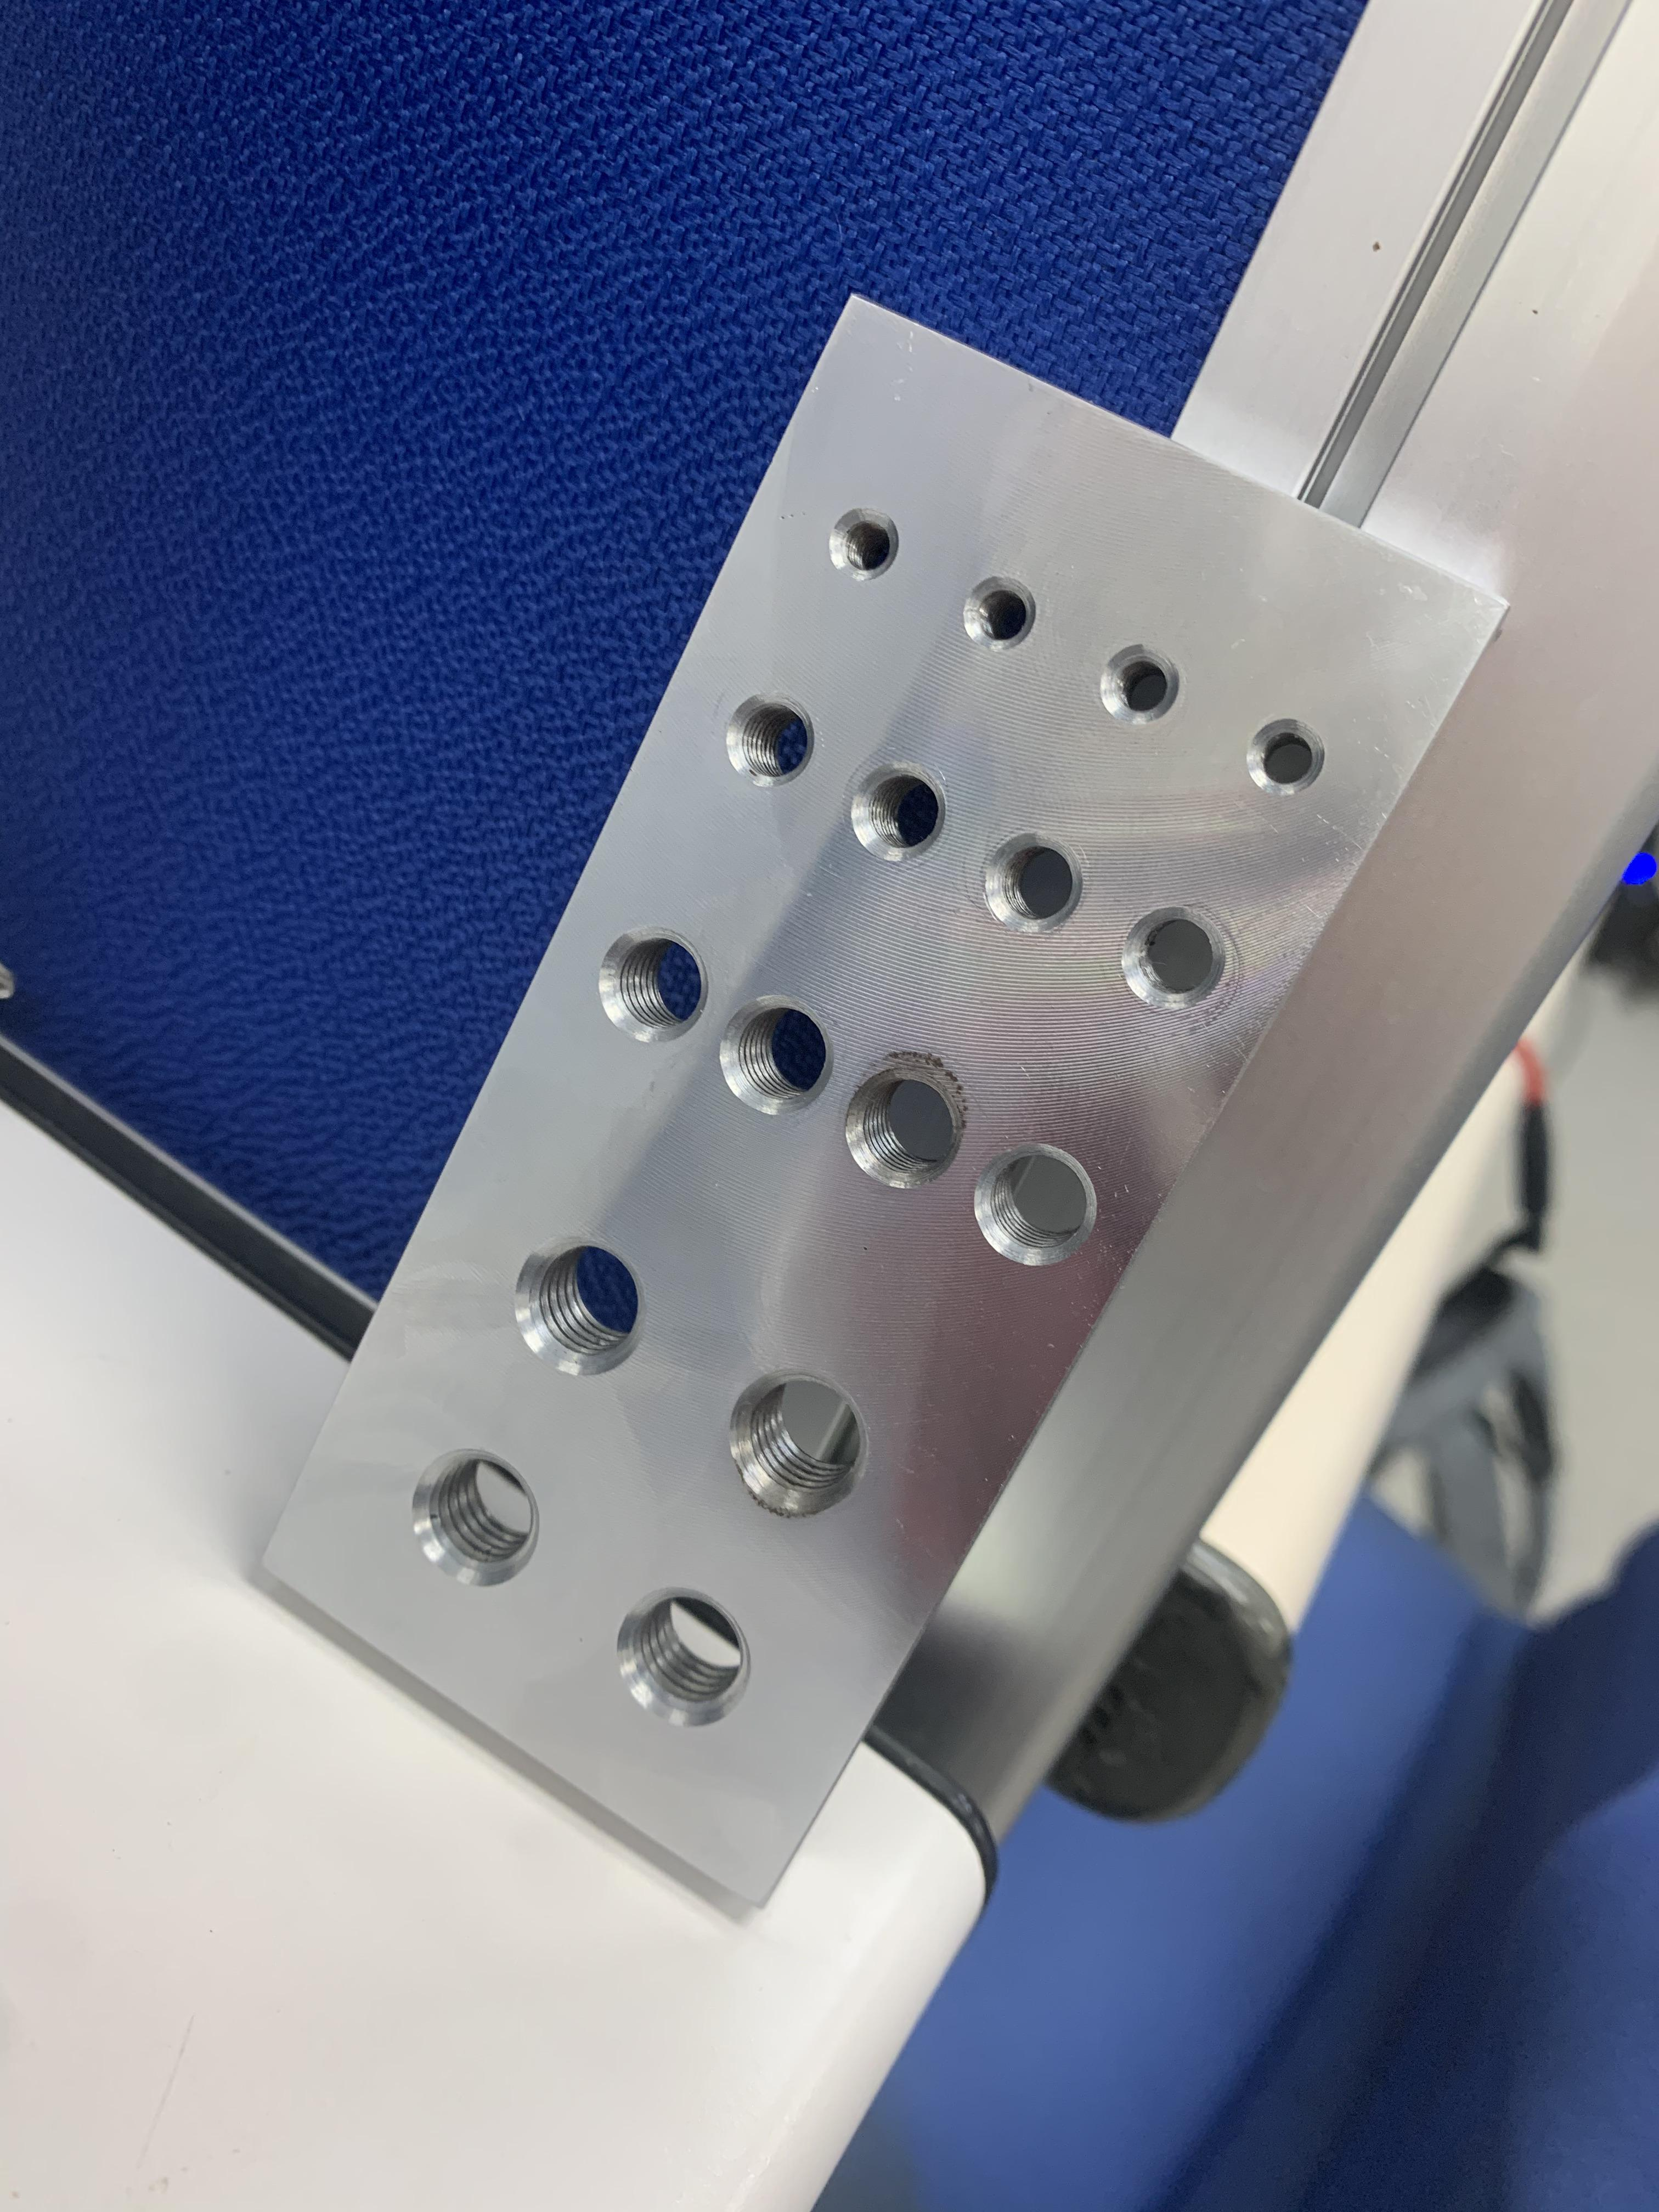hole: (378, 1423, 568, 1620), (488, 1223, 669, 1411), (568, 914, 737, 1078), (603, 1581, 772, 1743), (704, 1366, 866, 1527), (697, 991, 850, 1137), (1105, 888, 1243, 1040), (962, 1139, 1101, 1280), (1060, 625, 1190, 766), (828, 1064, 967, 1195), (964, 824, 1096, 956), (941, 547, 1056, 685), (798, 482, 906, 617), (1225, 688, 1342, 806), (842, 758, 948, 873), (708, 681, 817, 787)
